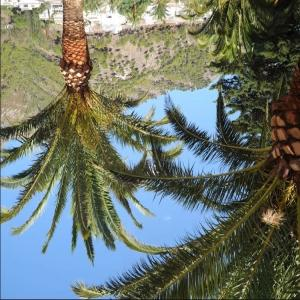palm tree: (69, 0, 299, 299)
